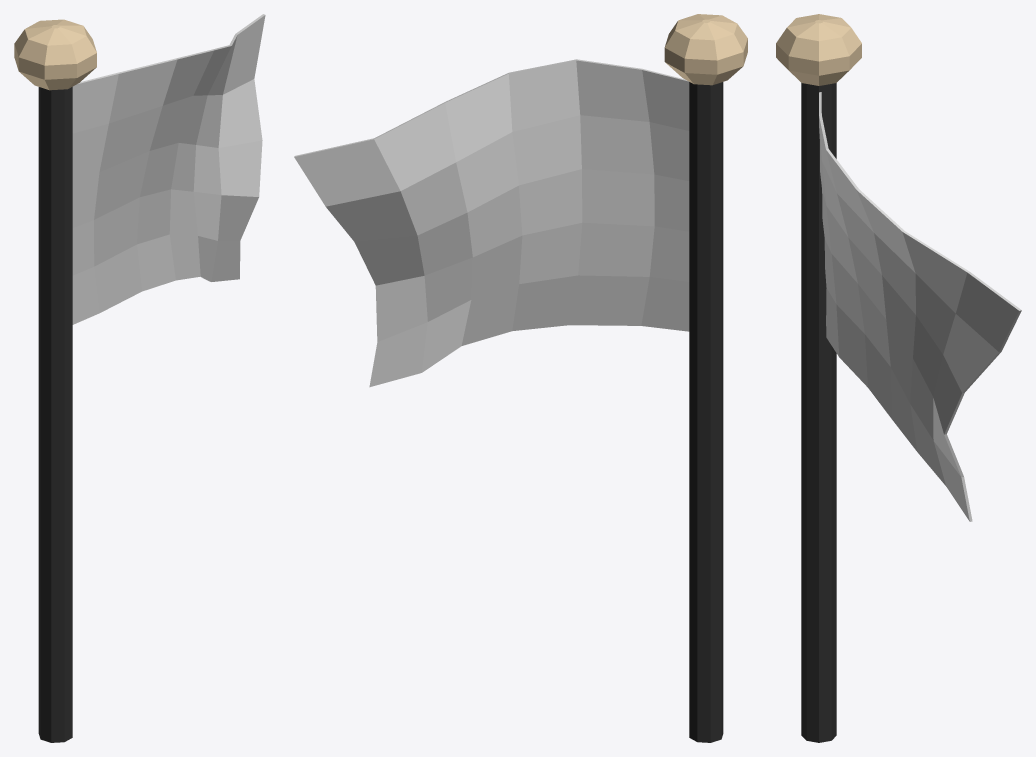
File: drapeau_chekpoint.fbx
3 views of the same model, side by side, from view 1: azimuth 30°, elevation 25°; view 2: azimuth 150°, elevation 25°; view 3: azimuth 270°, elevation 25° (orthographic).
Parts seen in each view (by area): view 1: Cylinder; view 2: Cylinder; view 3: Cylinder.
Part boxes in pixels (x1,y1,x2,y2): Cylinder: [14, 14, 265, 742]; Cylinder: [294, 14, 747, 742]; Cylinder: [776, 14, 1021, 742].
Bounding box in the file's own units: 370 × 725 × 226.
